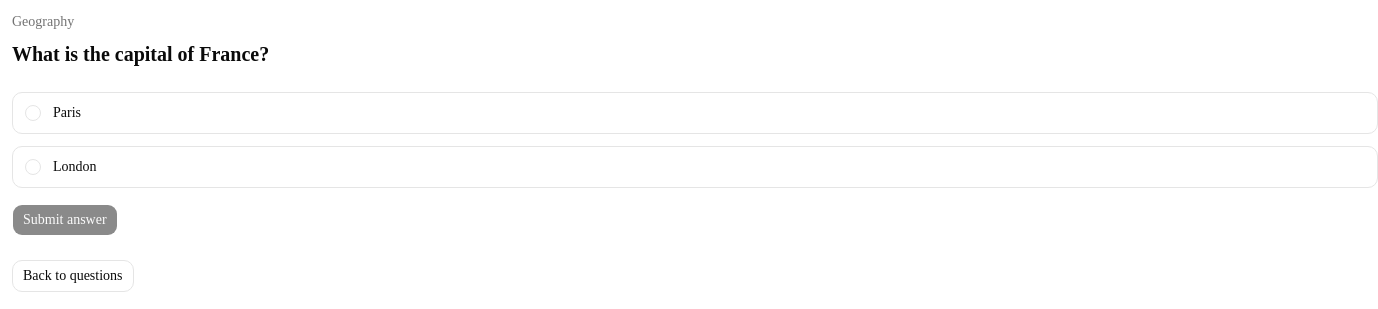
McqPreview › keeps submit disabled until a choice is selected
The width and height of the screenshot is (1378, 309).
Expected: the button "Submit answer" is disabled, [12,204,118,236]
What coordinates should you click on to do the following:
click the radio button named "Paris" next to "Paris"
I would click on:
 (33, 113)
Its box is [25,105,41,121].
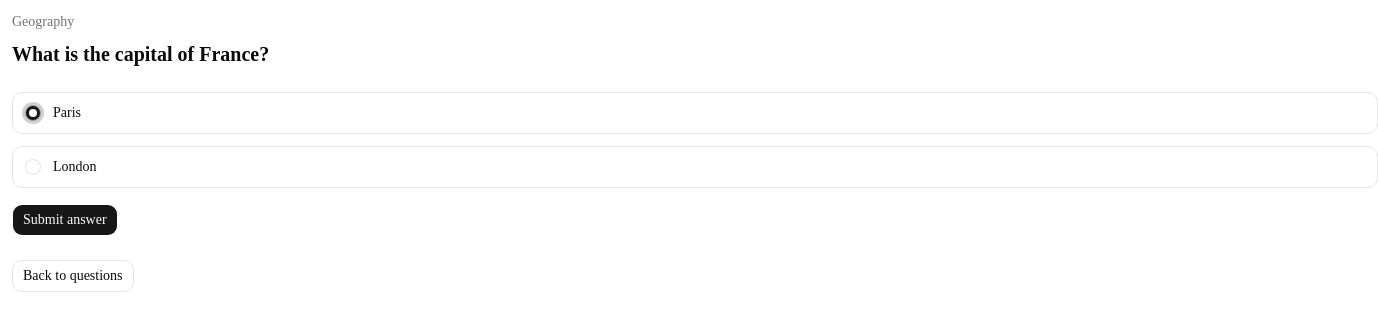
Expected: the button "Submit answer" is enabled, [12,204,118,236]
